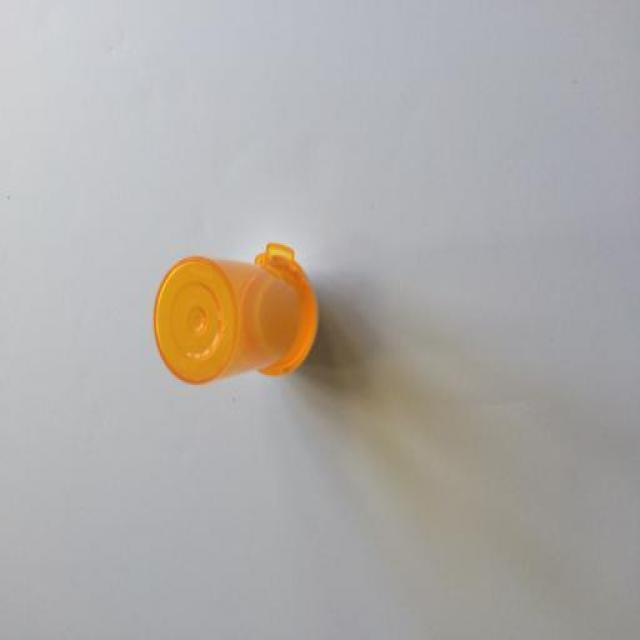plastic_bottle: (124, 174, 333, 384)
